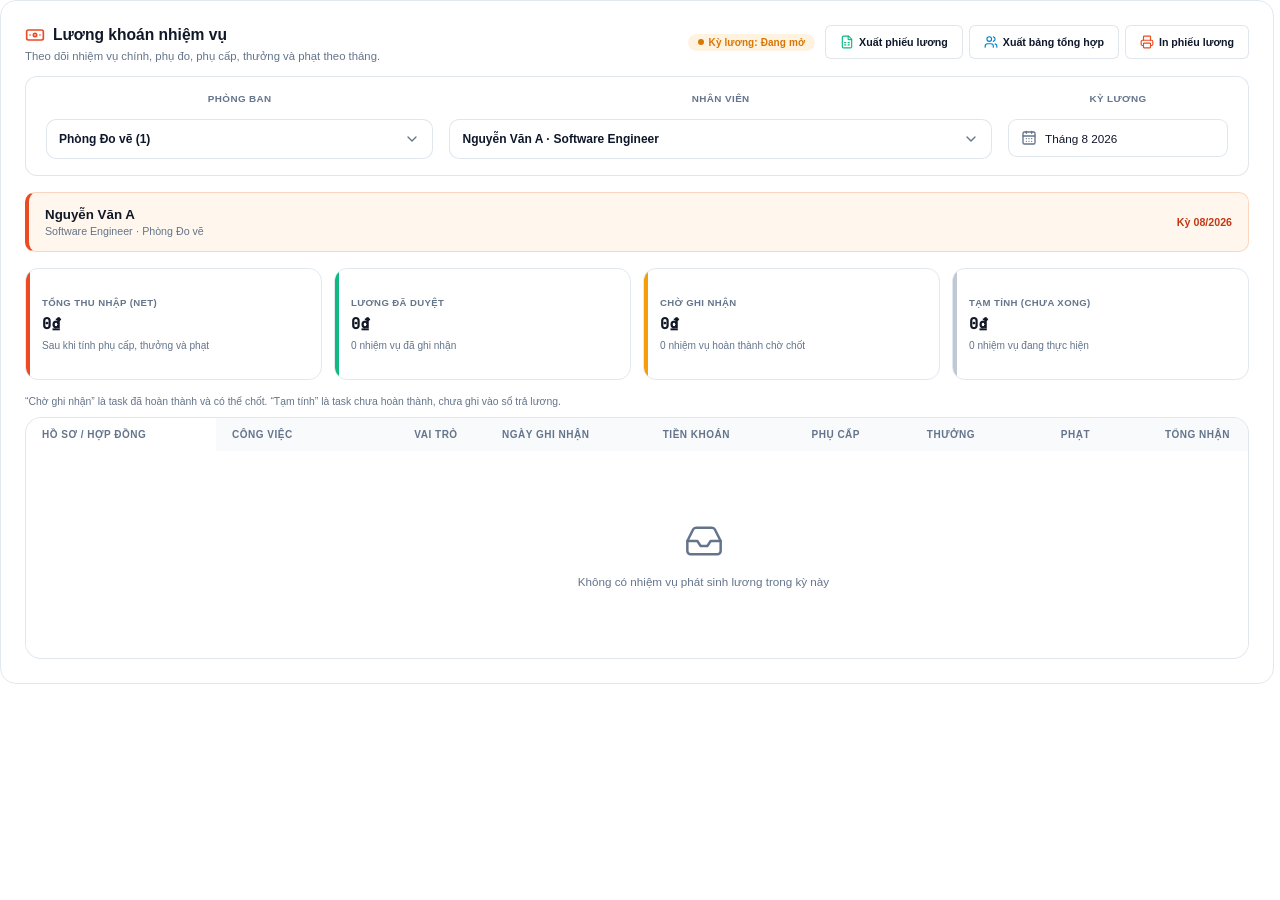
Test case: PieceRatePayrollScreen payroll closing › uses a dedicated responsive layout class for the print preview modal
Step 1. Click the button "In phiếu lương" → (1187, 42), box [1125, 25, 1249, 59]
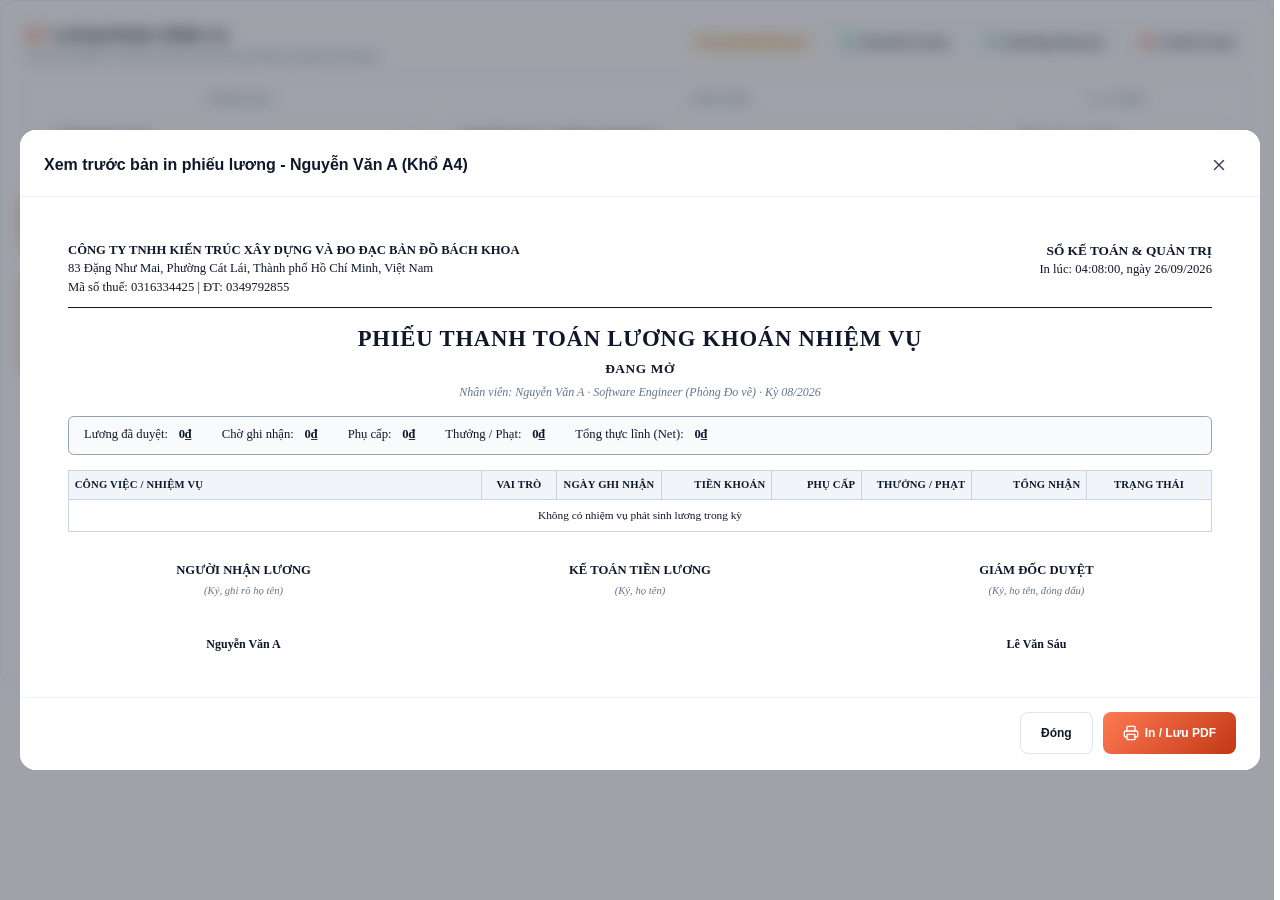
Expected: the dialog "Xem trước bản in" is shown
